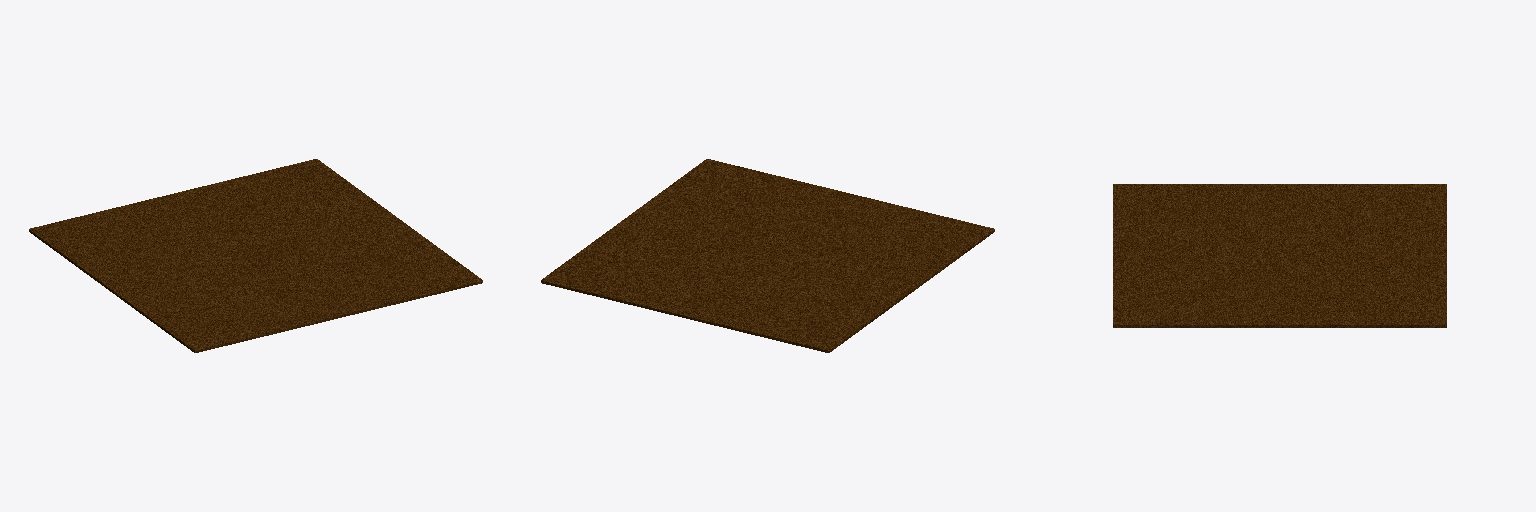
3 renders of one model, left to right at view 1: azimuth 30°, elevation 25°; view 2: azimuth 150°, elevation 25°; view 3: azimuth 270°, elevation 25°, orthographic.
Parts seen in each view (by area): view 1: Cube_Cube.001; view 2: Cube_Cube.001; view 3: Cube_Cube.001.
Part boxes in pixels (x1,y1,x2,y2): Cube_Cube.001: (29, 159, 482, 352); Cube_Cube.001: (541, 159, 994, 352); Cube_Cube.001: (1113, 184, 1446, 327).
Size of the model in its own units: 10 by 0.0853 by 10.
Materials: 1 (1 with a texture image).